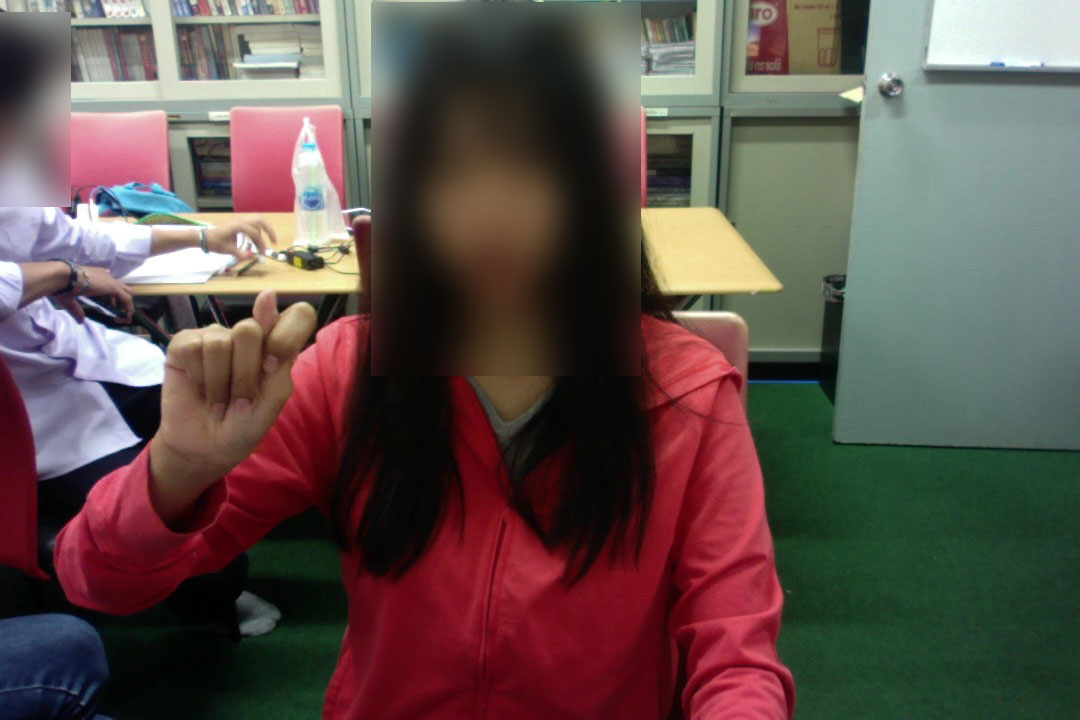tor: (150, 287, 322, 480)
